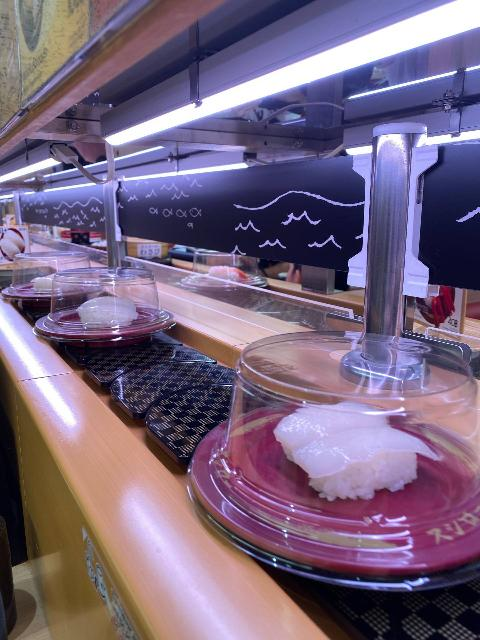janred: (178, 392, 480, 570), (23, 300, 206, 353), (16, 262, 132, 311)
